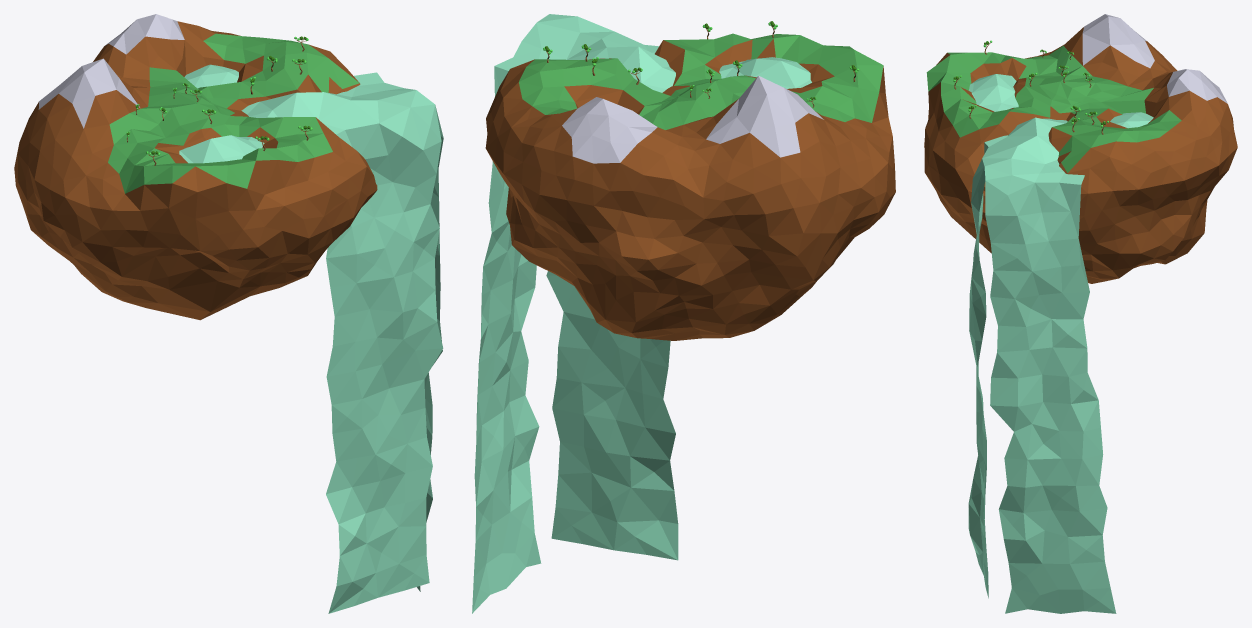
File: testmap2.glb
The picture shows the model from 3 angles, left to right: view 1: azimuth 30°, elevation 25°; view 2: azimuth 150°, elevation 25°; view 3: azimuth 270°, elevation 25°; orthographic projection. The views are drawn at different scales.
Parts seen in each view (by area): view 1: Icosphere, Plane; view 2: Icosphere, Plane; view 3: Plane, Icosphere.
Boxes of the visible parts, bbox=[...] form: Icosphere: bbox=[14, 14, 377, 320]; Plane: bbox=[179, 64, 443, 613]; Icosphere: bbox=[485, 33, 895, 340]; Plane: bbox=[472, 14, 811, 613]; Plane: bbox=[968, 74, 1153, 613]; Icosphere: bbox=[924, 14, 1237, 283].
Bounding box in the file's own units: 177 × 260 × 152.
